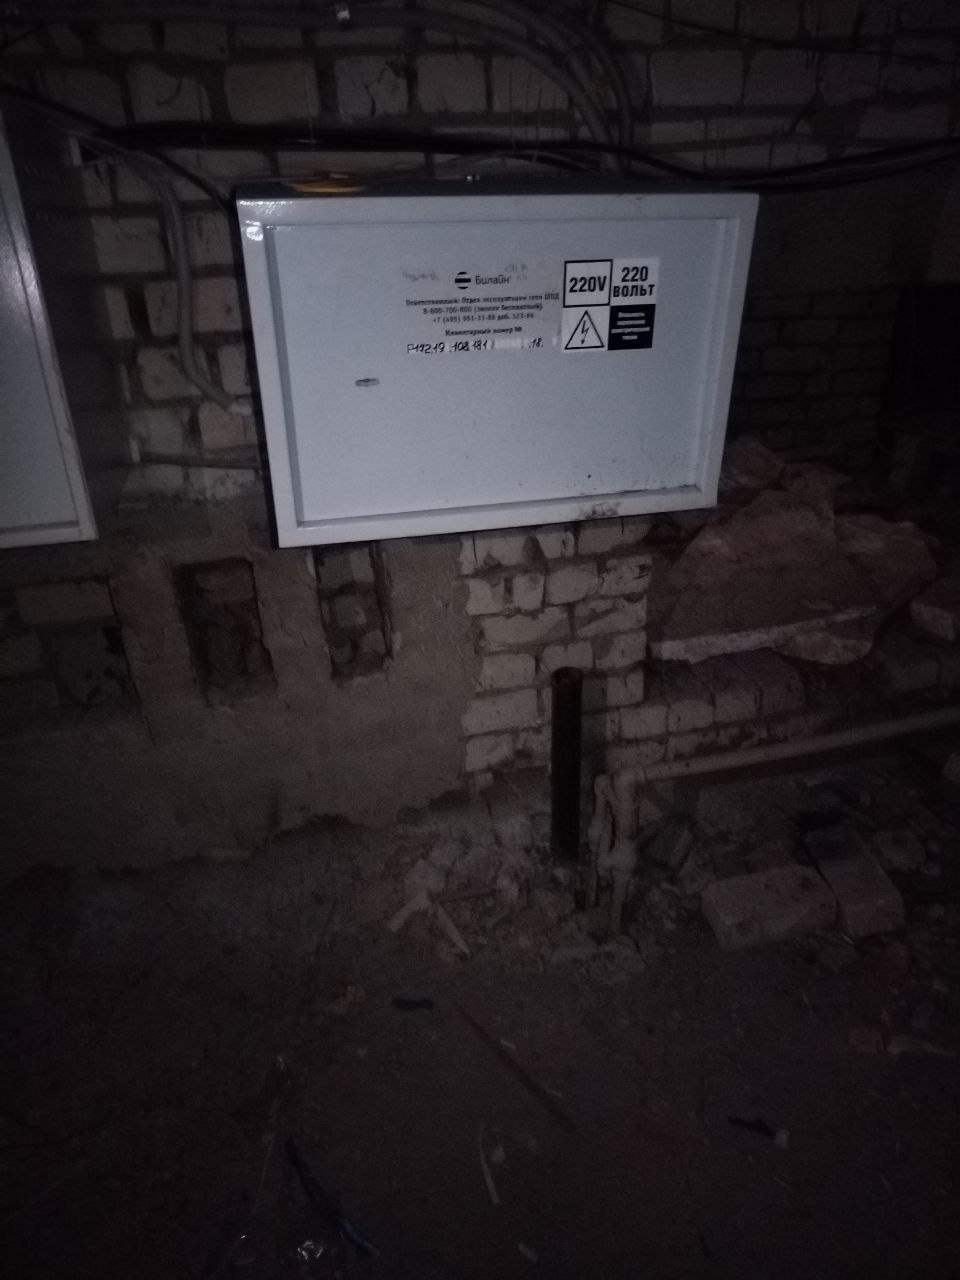shta-7m: (231, 172, 762, 549)
